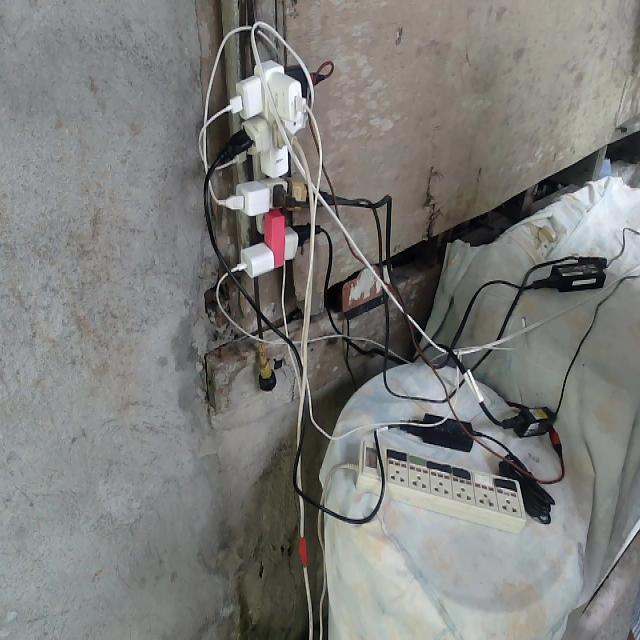-: (210, 60, 335, 277)
